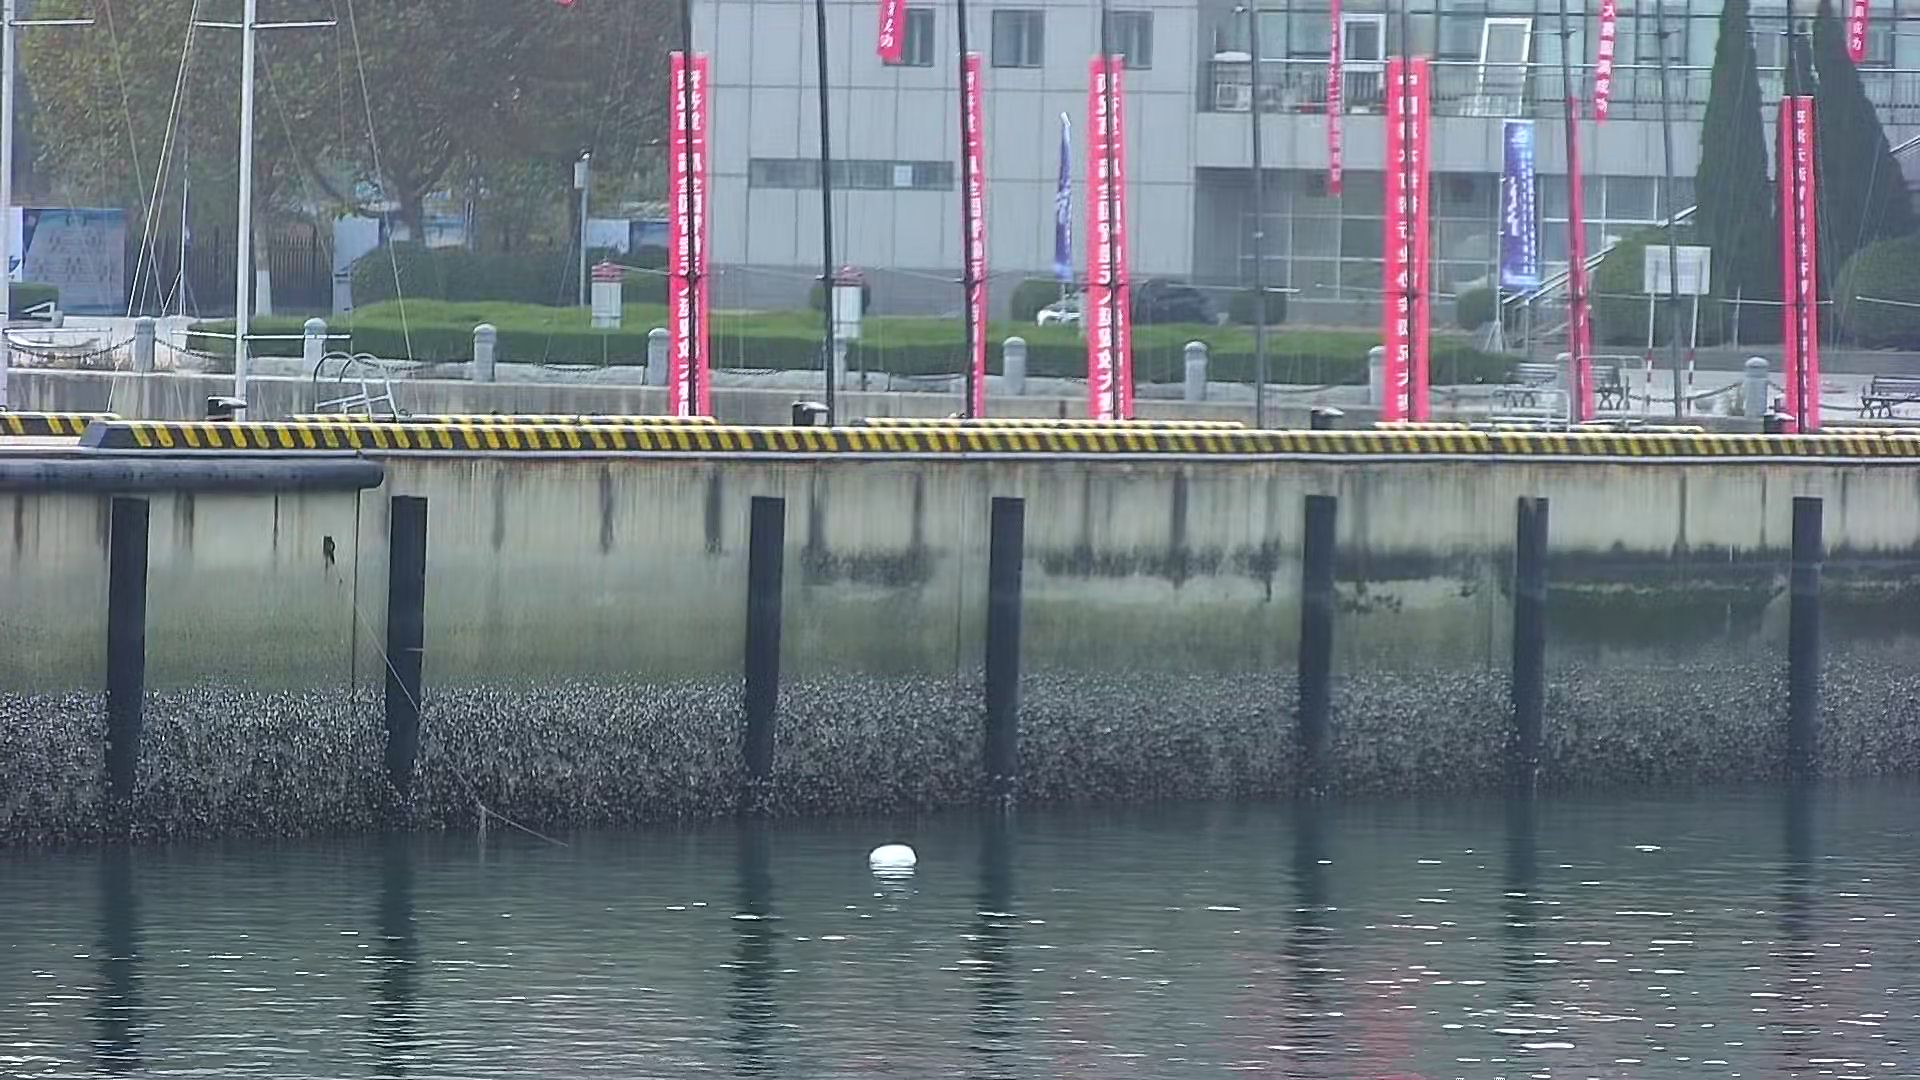rubbish: (862, 843, 926, 884)
